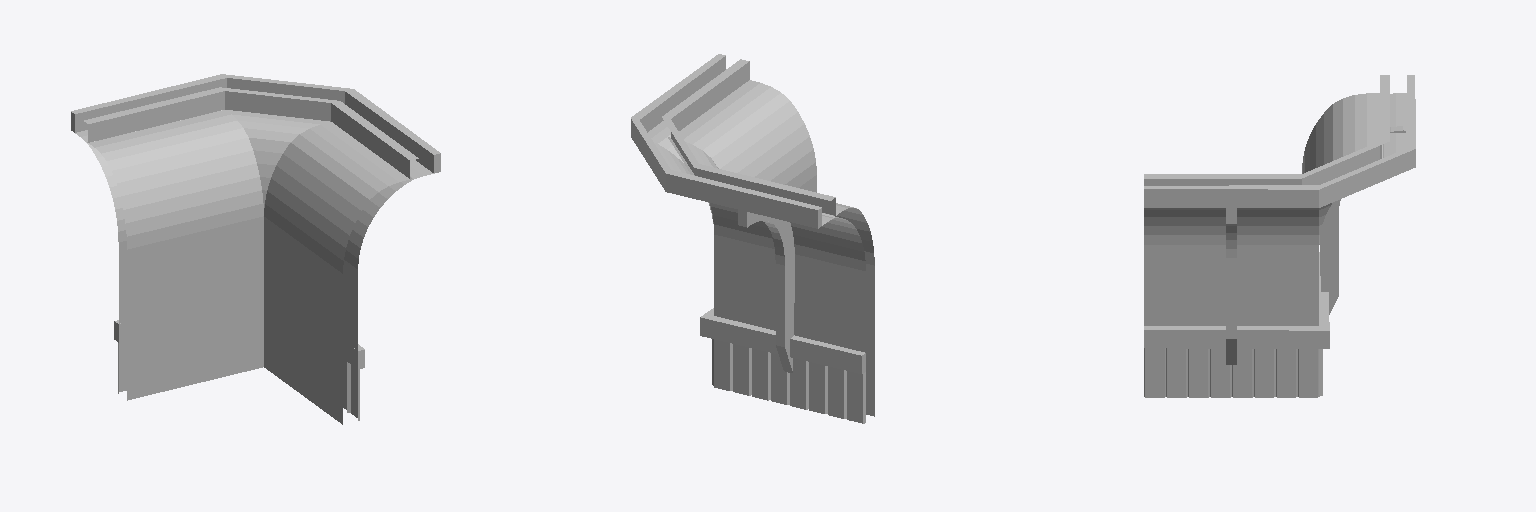
File: Overhang_WoodBrick_Corner.obj
3 renders of one model, left to right at view 1: azimuth 30°, elevation 25°; view 2: azimuth 150°, elevation 25°; view 3: azimuth 270°, elevation 25°, orthographic.
Visible parts, largest first — view 1: Overhang_WoodBrick_Corner; view 2: Overhang_WoodBrick_Corner; view 3: Overhang_WoodBrick_Corner.
Boxes of the visible parts, x1=… form: Overhang_WoodBrick_Corner: x1=71, y1=74, x2=440, y2=424; Overhang_WoodBrick_Corner: x1=631, y1=54, x2=874, y2=423; Overhang_WoodBrick_Corner: x1=1144, y1=75, x2=1415, y2=397.
Bounding box in the file's own units: 3.1 × 3.12 × 3.1.